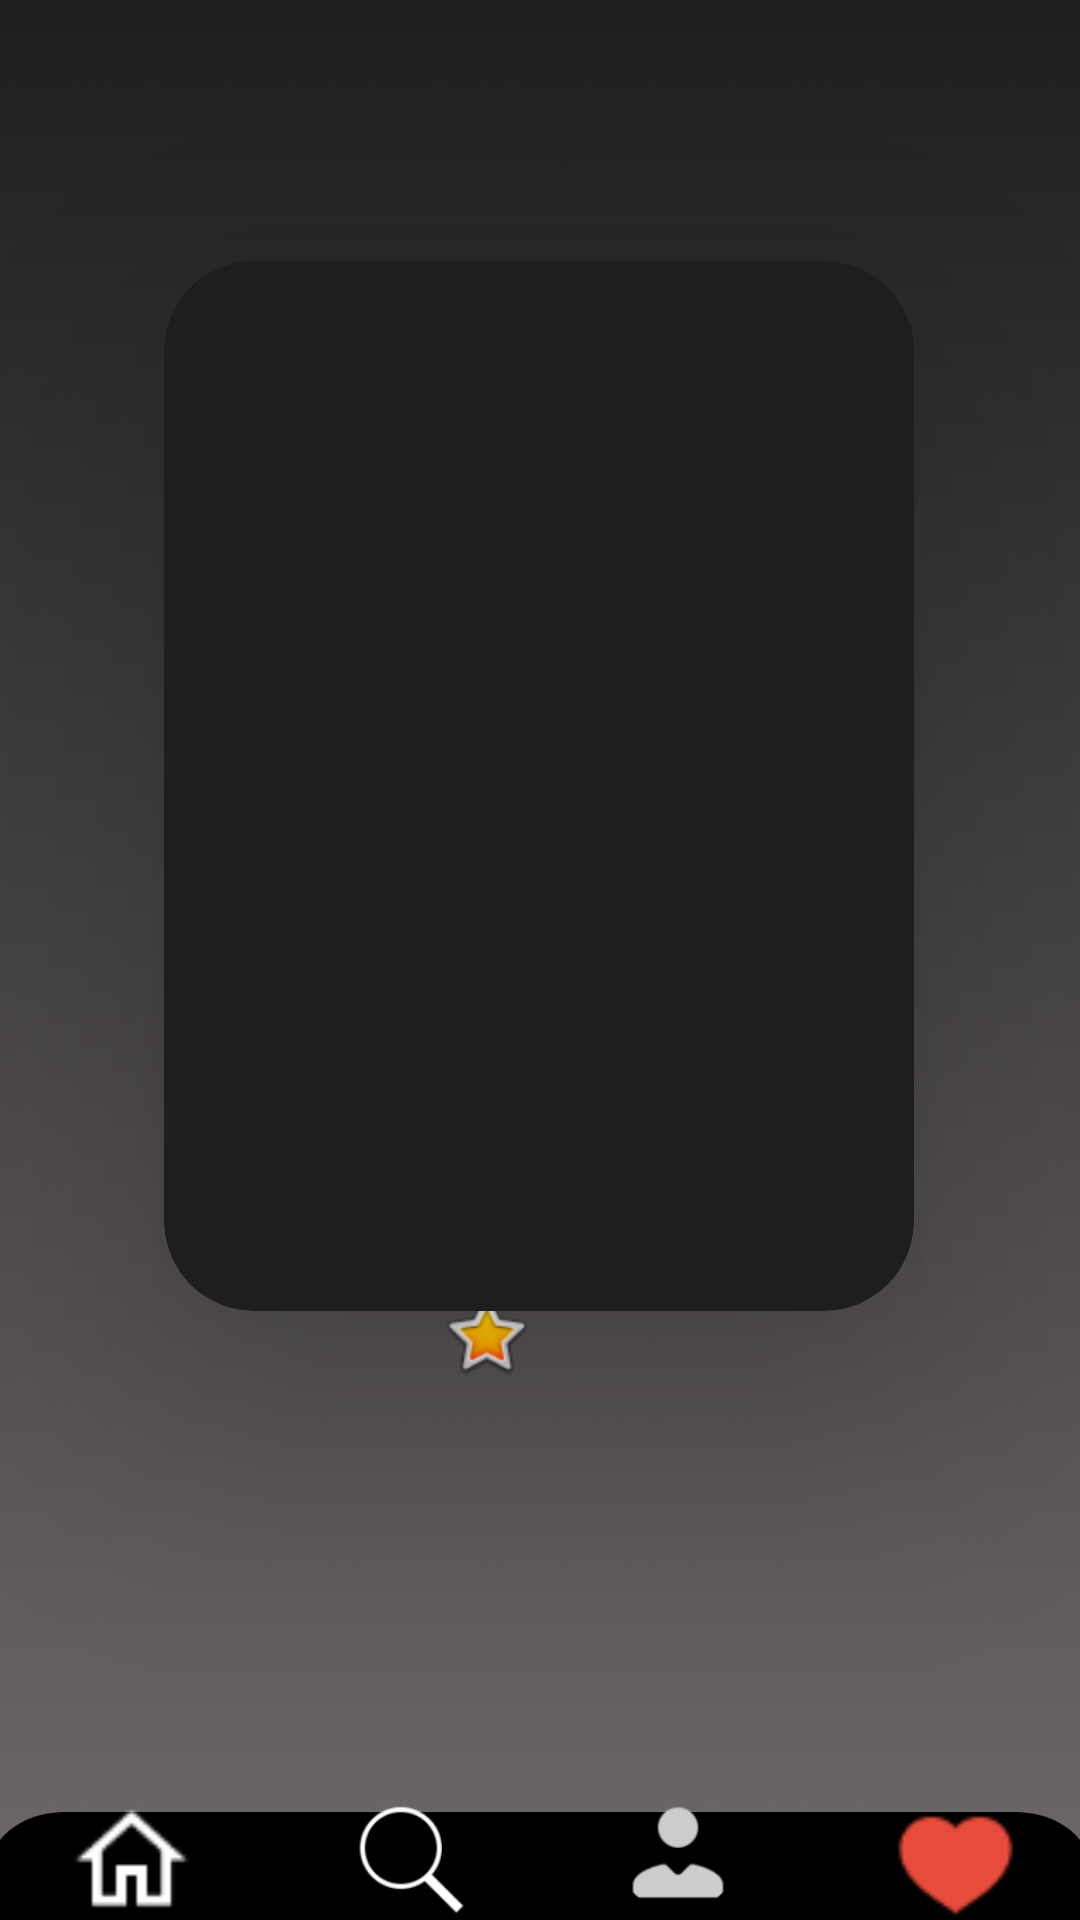

Named icons in this screenshot (1080 x 1920) and their centers, point (x, y):
account: point (678, 1852)
heart: point (955, 1860)
home: point (131, 1860)
search: point (410, 1860)
star on: point (486, 1329)
